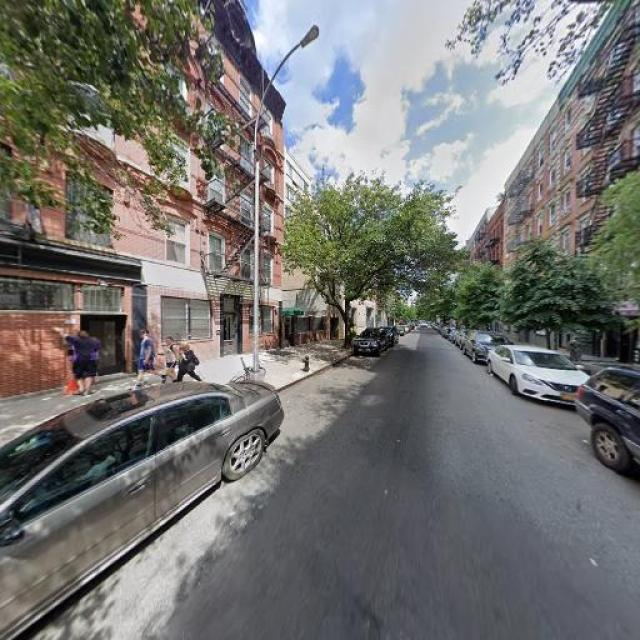Building: (1, 1, 283, 404), (509, 1, 640, 369)
